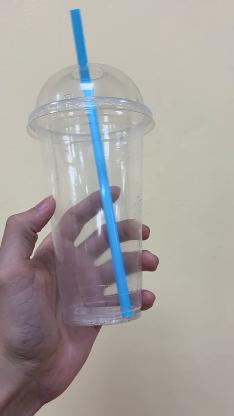Plastic Cup: (27, 62, 157, 326)
